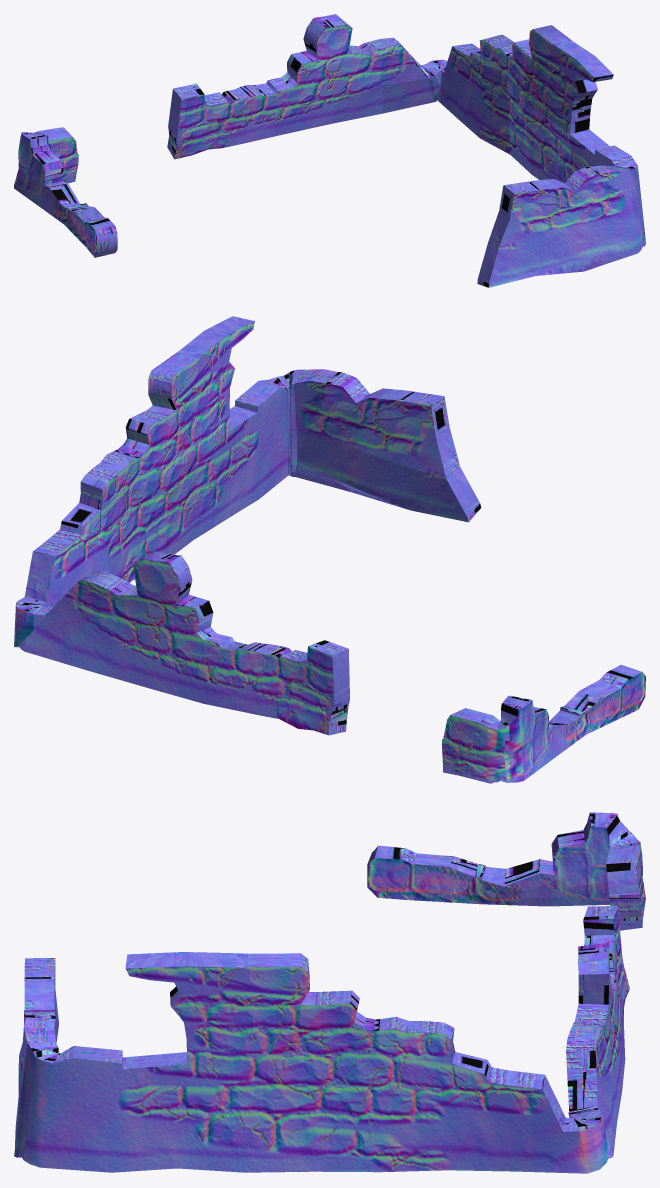
File: TestHouse 1.fbx
3 renders of one model, top to bottom at view 1: azimuth 30°, elevation 25°; view 2: azimuth 150°, elevation 25°; view 3: azimuth 270°, elevation 25°, orthographic. The views are drawn at different scales.
Parts seen in each view (by area): view 1: Object, Object001; view 2: Object, Object001; view 3: Object, Object001.
Boxes of the visible parts, box(x1,y1,x2,y2) form: Object: box(14, 24, 645, 287); Object001: box(21, 14, 637, 287); Object: box(14, 321, 645, 783); Object001: box(16, 316, 641, 739); Object: box(14, 814, 645, 1173); Object001: box(24, 812, 642, 1131).
Bounding box in the file's own units: 332 × 113 × 303.
